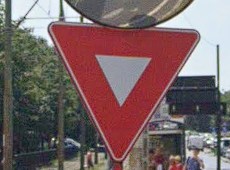cedeaza: (47, 20, 202, 161)
